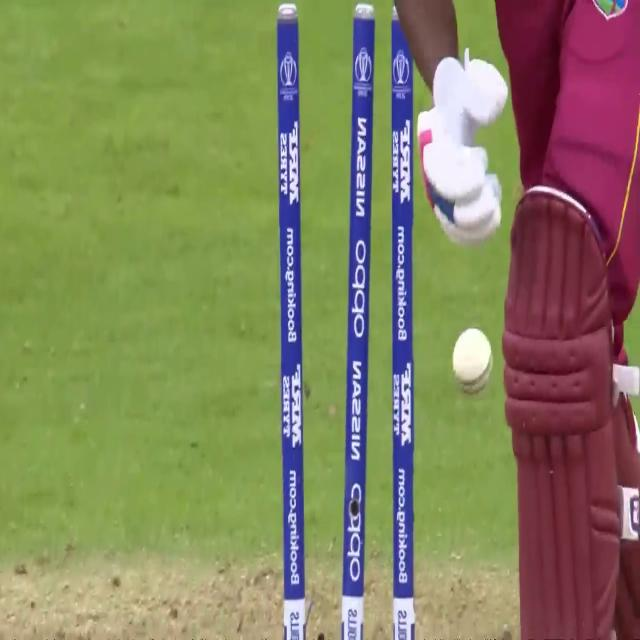ball: (449, 316, 497, 400)
